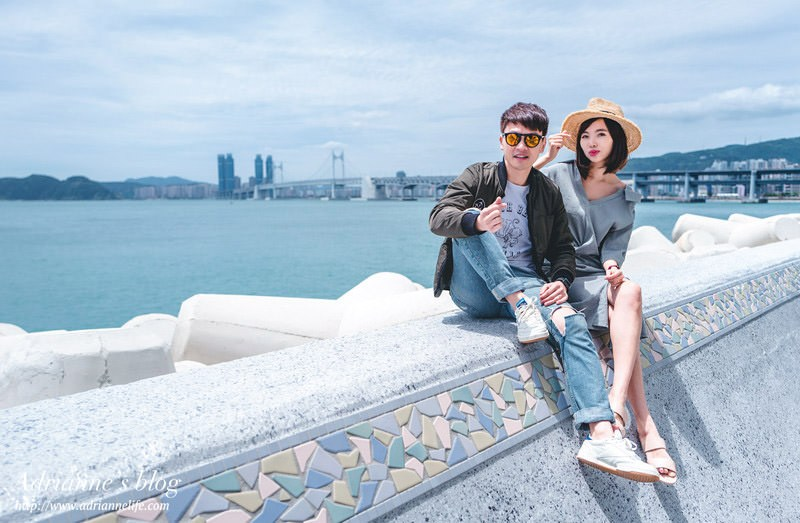people: (456, 103, 648, 476), (552, 103, 693, 475)
